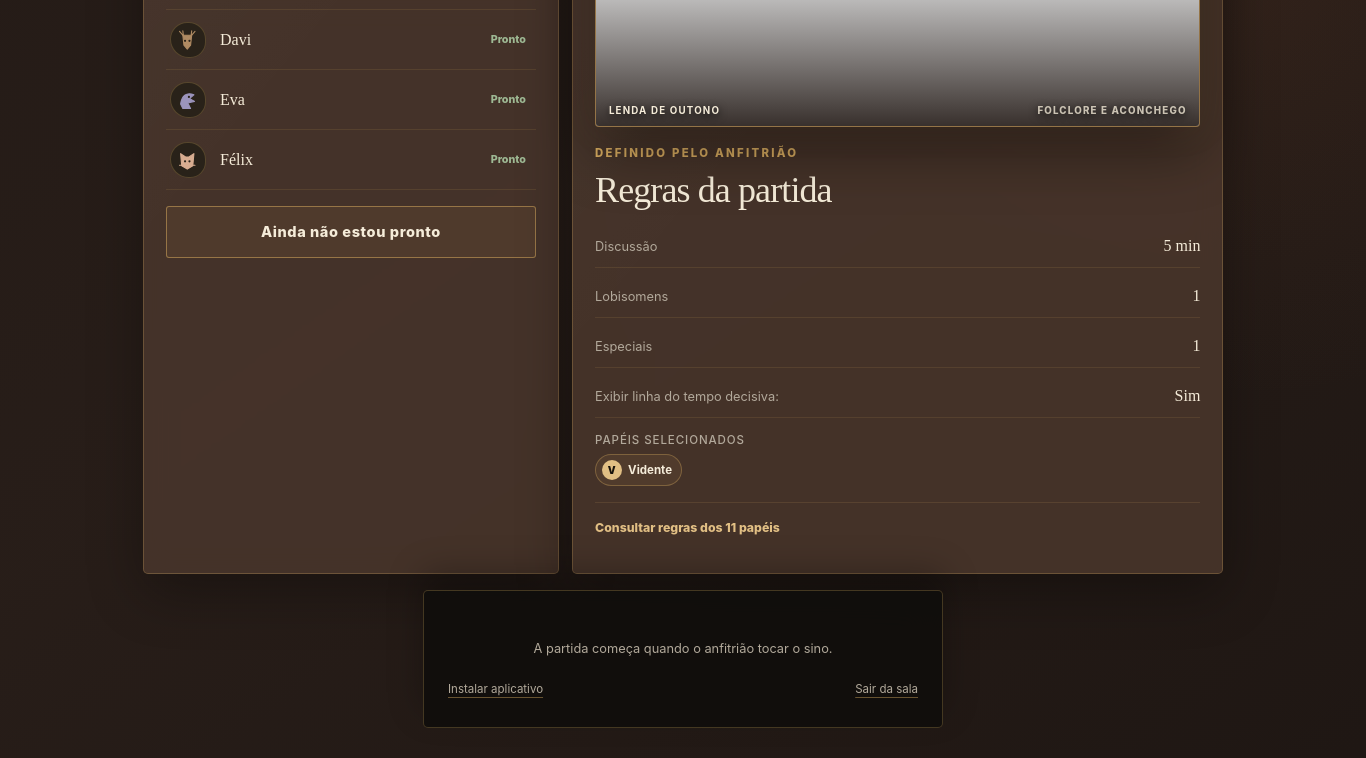
catálogo de regras › expõe as regras completas também para quem não é anfitrião
(page scrolled)
Click the heading "Consultar regras dos 11 papéis" at (688, 527), box [595,520,780,534]
(page scrolled)
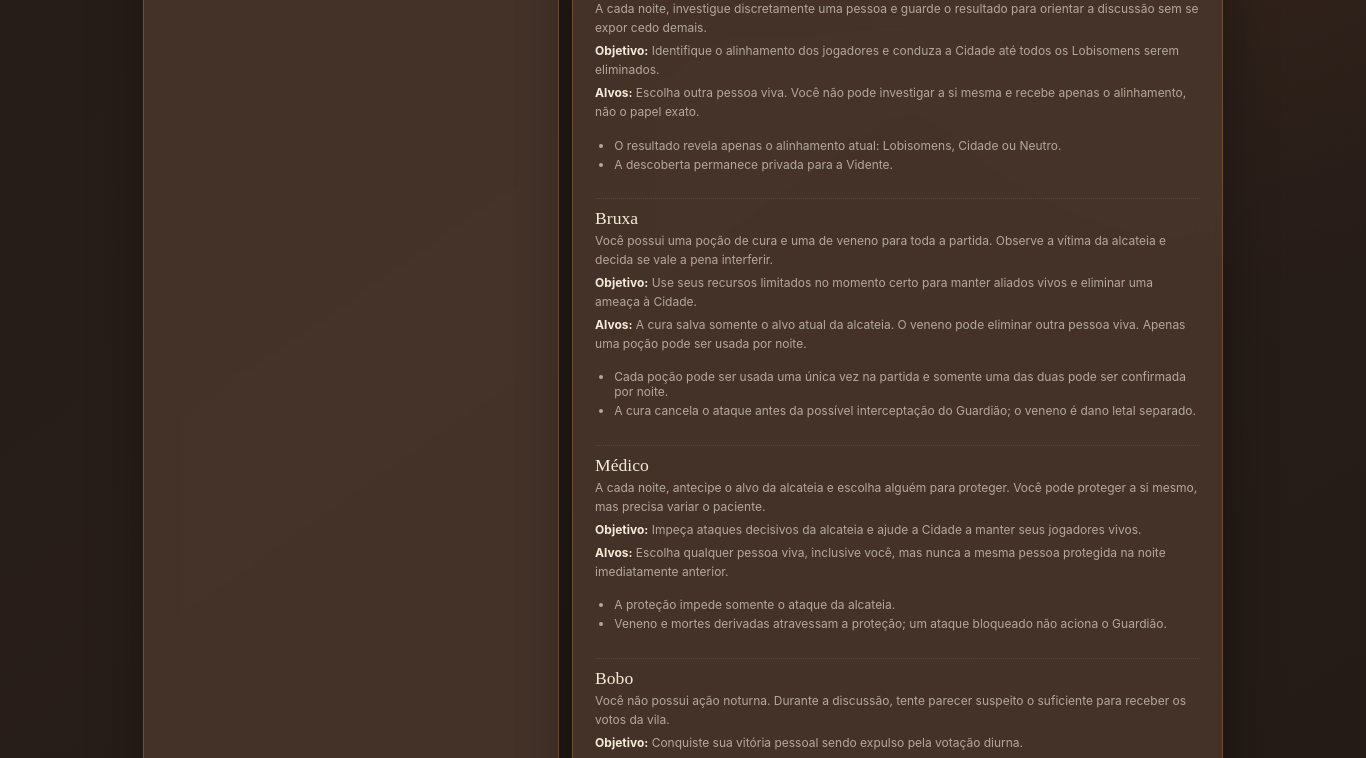
Check: the heading "Bruxa" is shown, box [595,208,638,228]
Check: the list item "somente uma das duas" is shown, box [614,370,1186,400]
